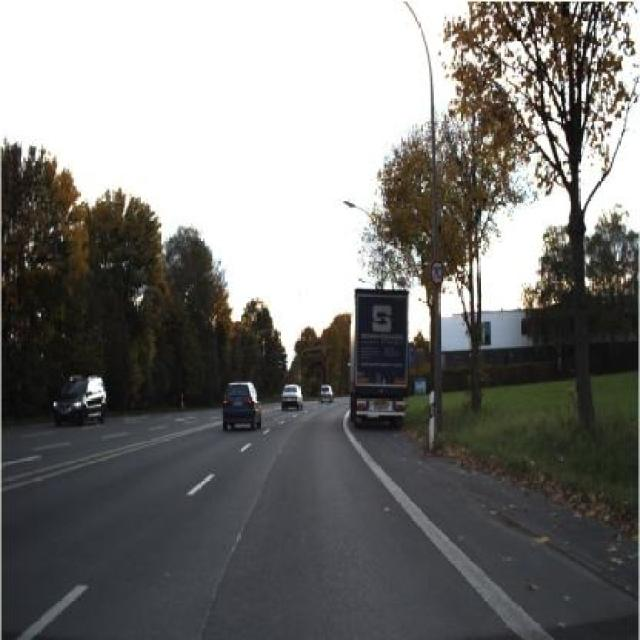forb_speed_over_70: (428, 259, 447, 287)
